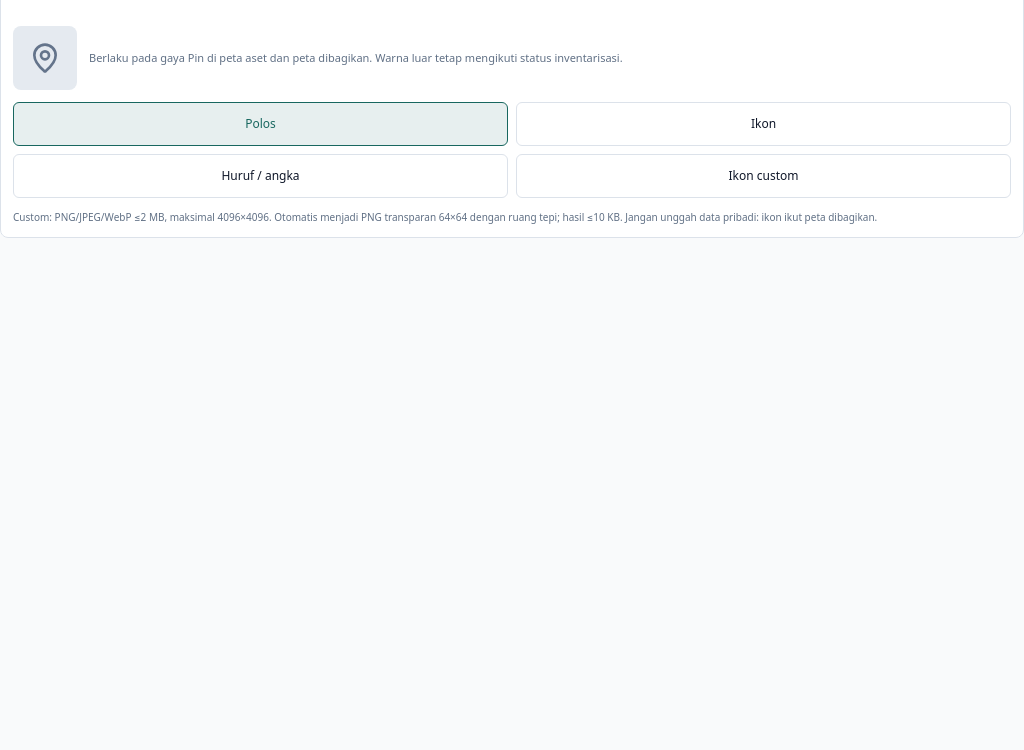
kode HEX circleColor sinkron dua arah, tidak menyimpan kode salah
Click the button with test id "marker-mode-icon". click: x=764, y=124
box: top-left (516, 102), bottom-right (1011, 146)
(page scrolled)
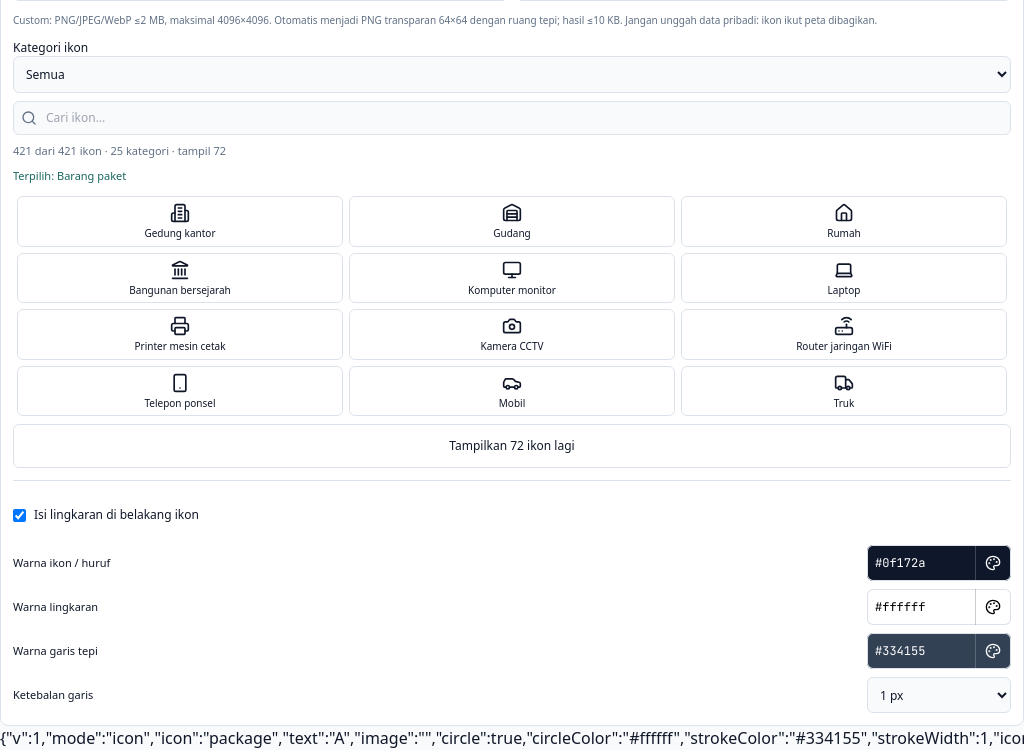
Replace the text in the field with test id "marker-circleColor-hex" with "A1B2C3". click: x=921, y=607
box: top-left (867, 589), bottom-right (975, 625)
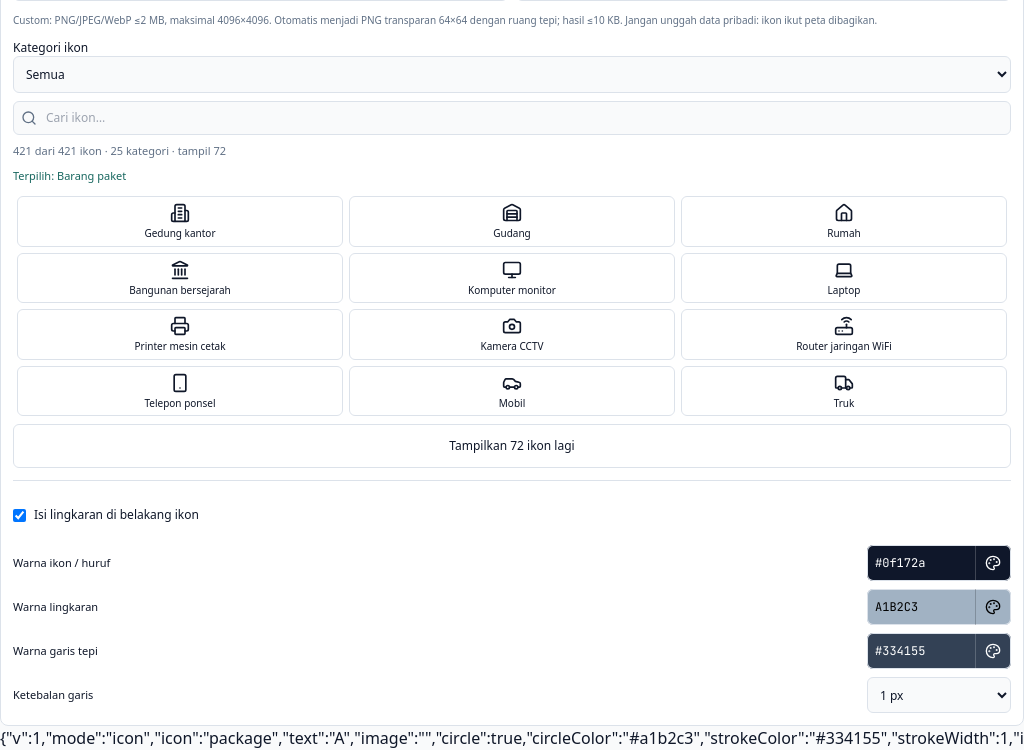
Leave the field with test id "marker-circleColor-hex", box top-left (867, 589), bottom-right (975, 625)
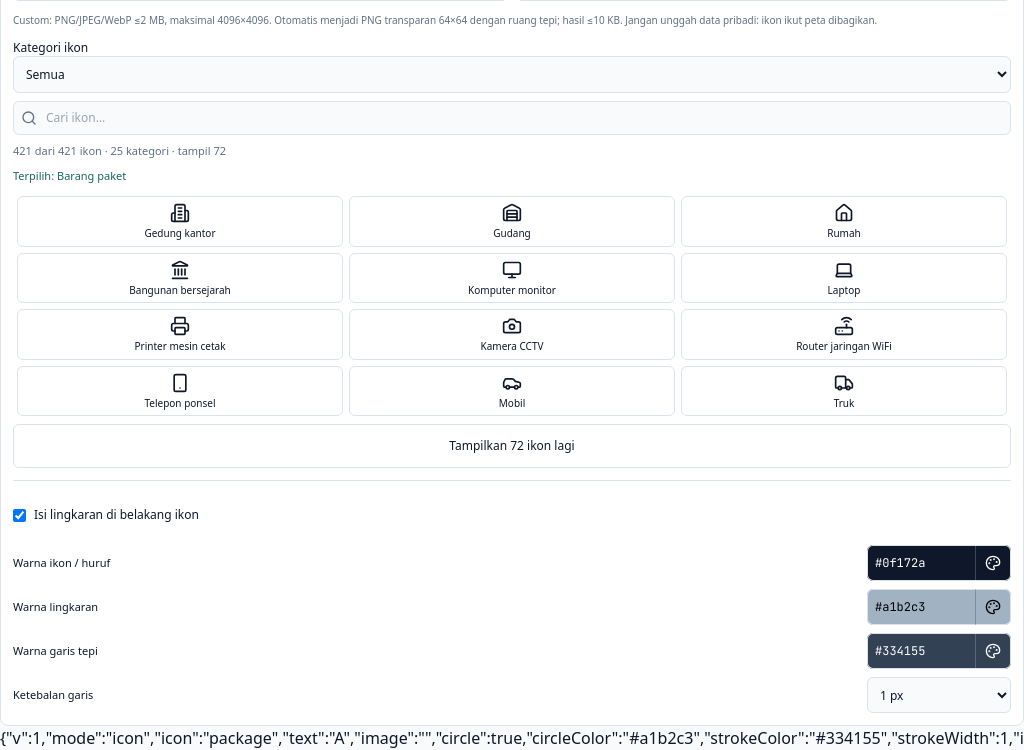
Expected: the colour field with test id "marker-circleColor" holds "#a1b2c3", top-left (975, 589), bottom-right (1011, 625)
Expected: the field with test id "marker-circleColor-hex" holds "#a1b2c3"
Replace the text in the field with test id "marker-circleColor-hex" with "#zz". click: x=921, y=607
box: top-left (867, 589), bottom-right (975, 625)
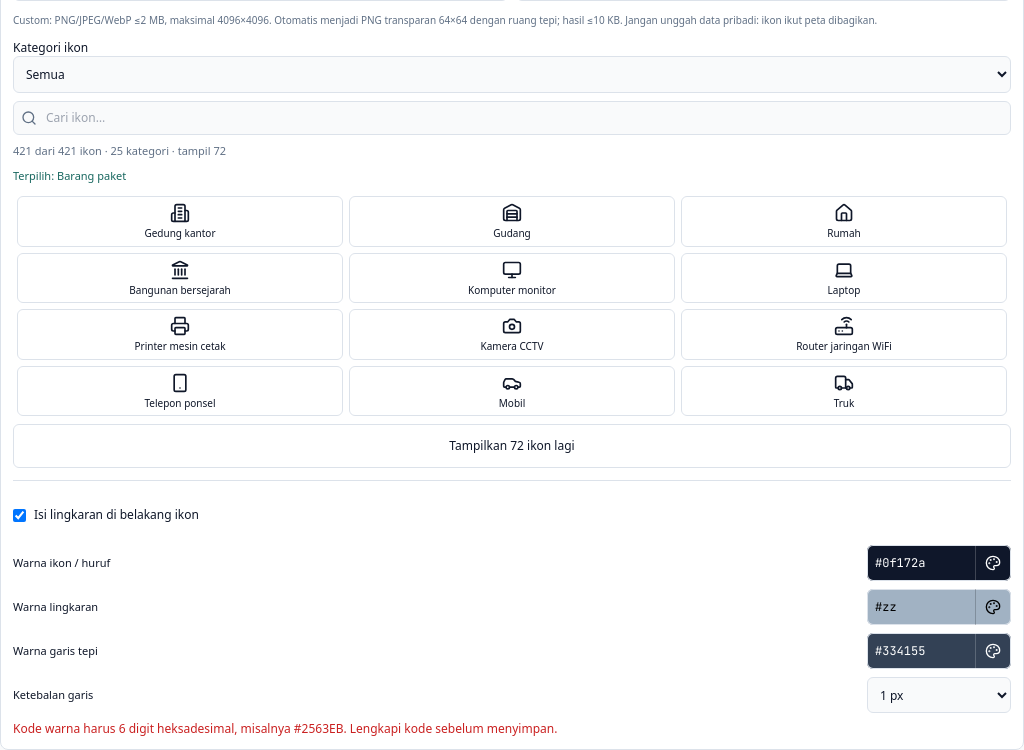
Expected: the field with test id "marker-circleColor-hex" is marked as invalid, top-left (867, 589), bottom-right (975, 625)
Type "#123456" into the colour field with test id "marker-circleColor". click: x=993, y=607
box: top-left (975, 589), bottom-right (1011, 625)
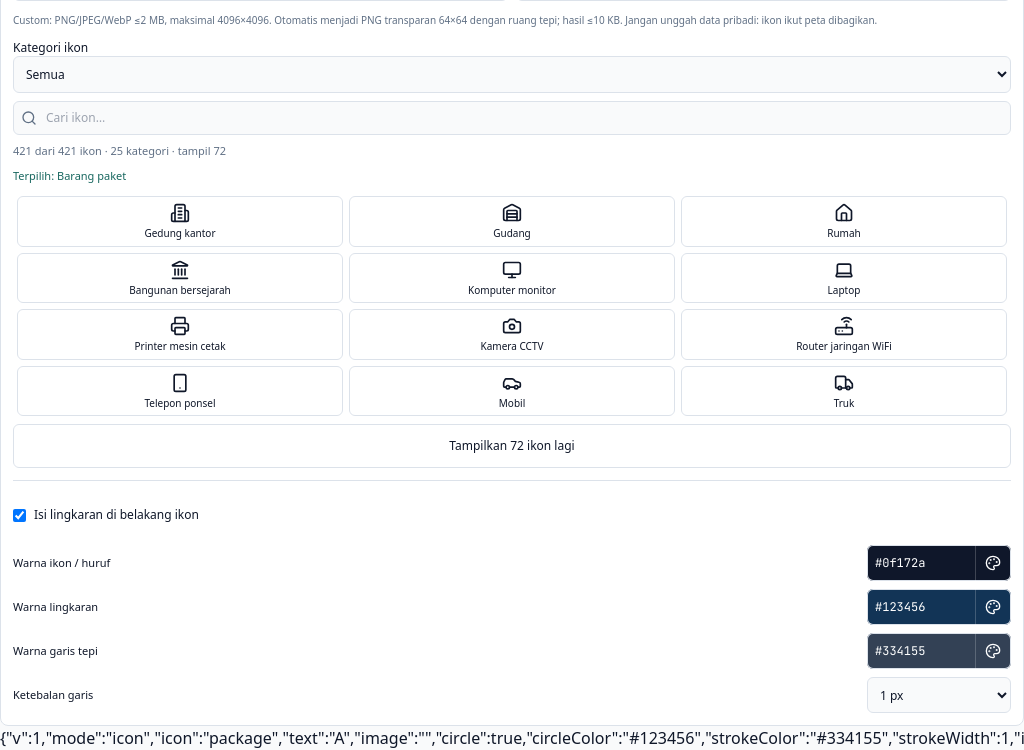
Expected: the field with test id "marker-circleColor-hex" holds "#123456", top-left (867, 589), bottom-right (975, 625)
